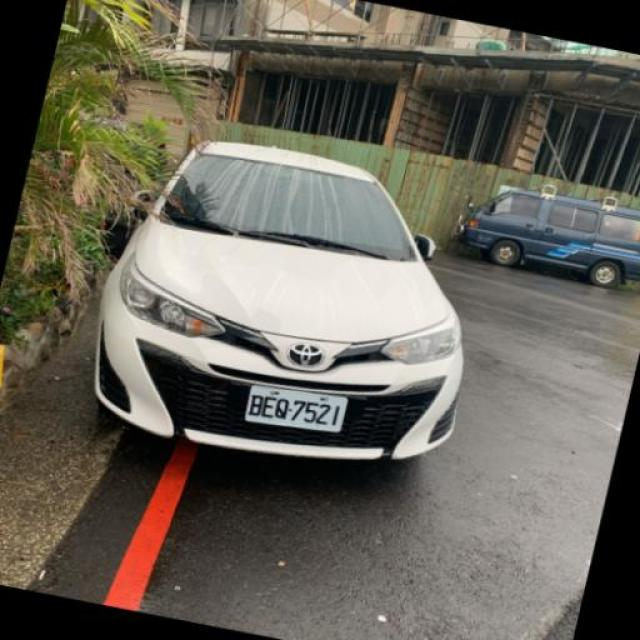illegalparking: (79, 128, 466, 488)
